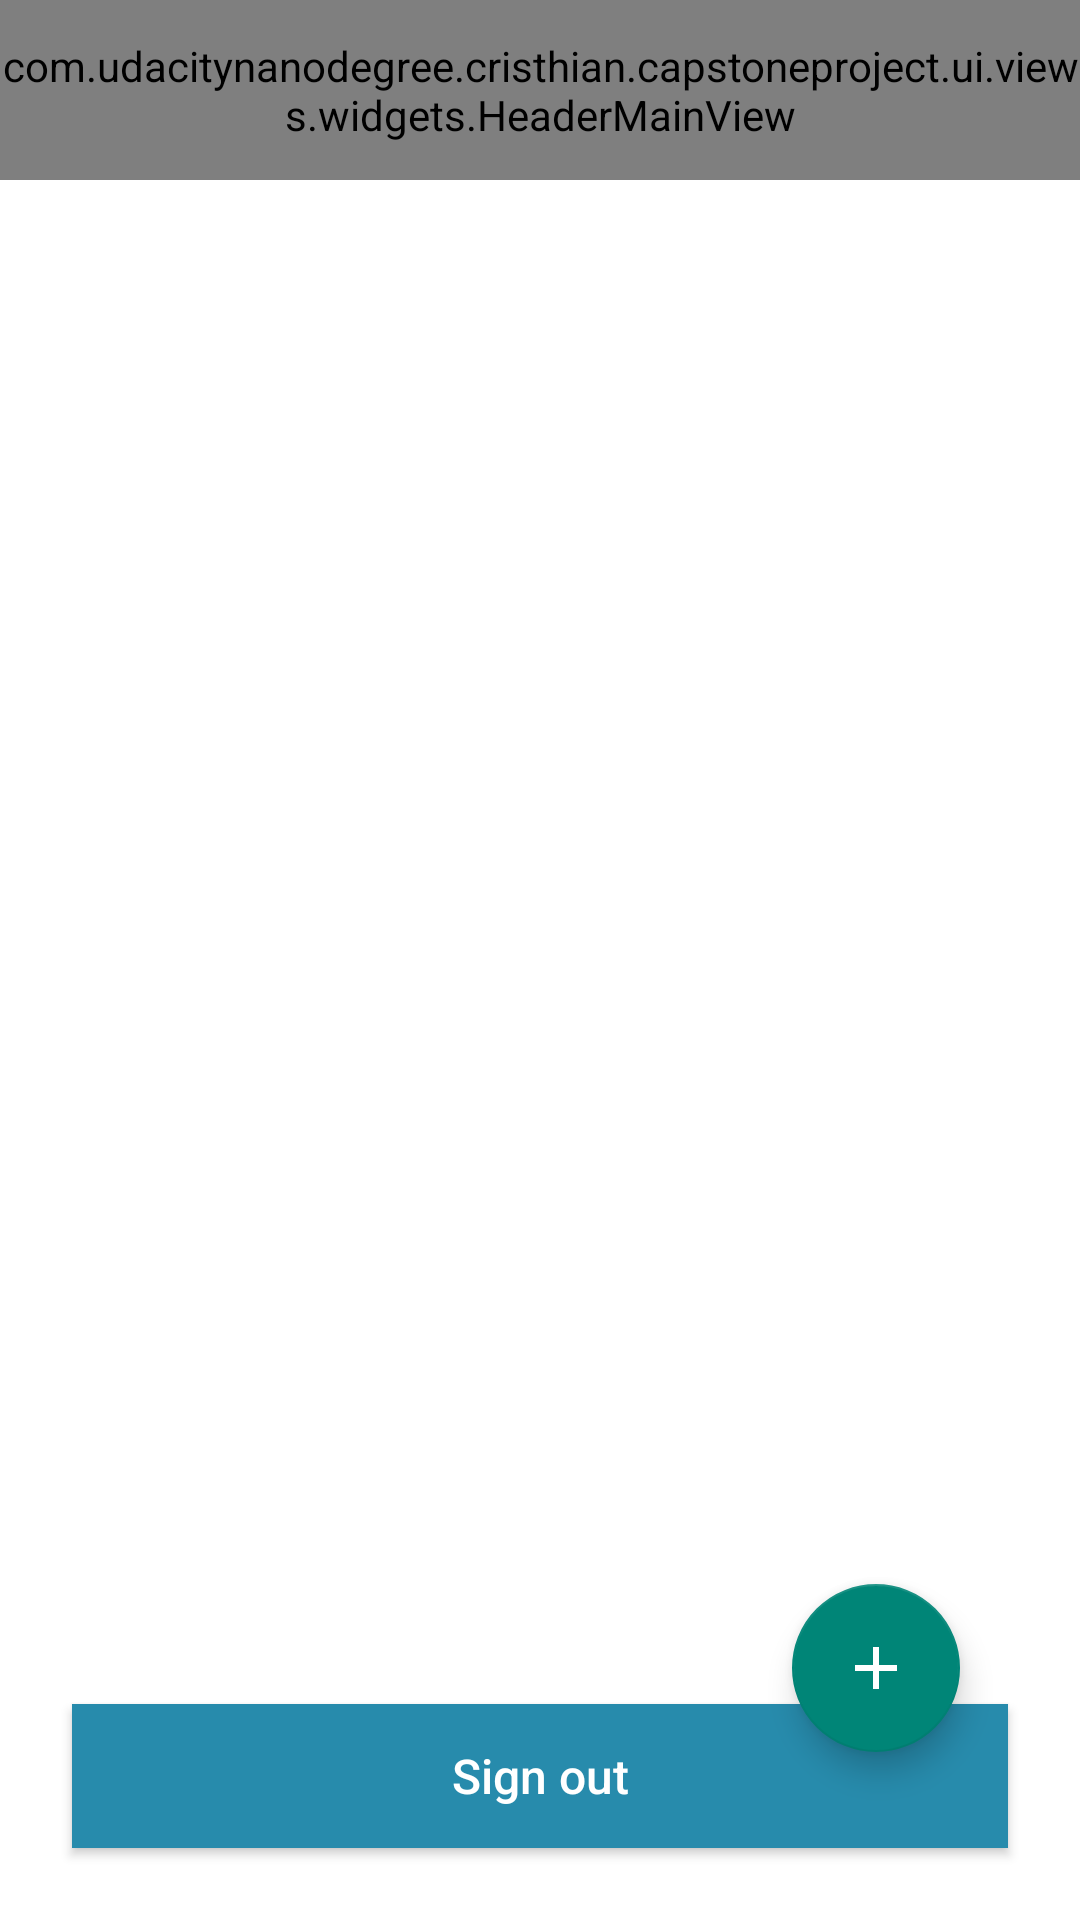

Point at icon controls on the screen. Image size 1080px×1920px, points as point (x, y).
plus: point (876, 1668)
